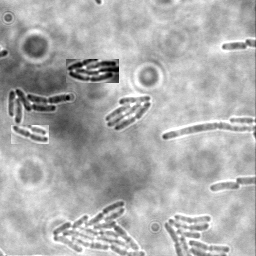Dividing: (161, 123, 255, 142), (11, 125, 49, 144), (221, 41, 248, 52)
Microcolony: (51, 200, 147, 255), (162, 212, 231, 255), (8, 89, 72, 126), (106, 96, 153, 132), (66, 59, 119, 83), (208, 182, 240, 193)
